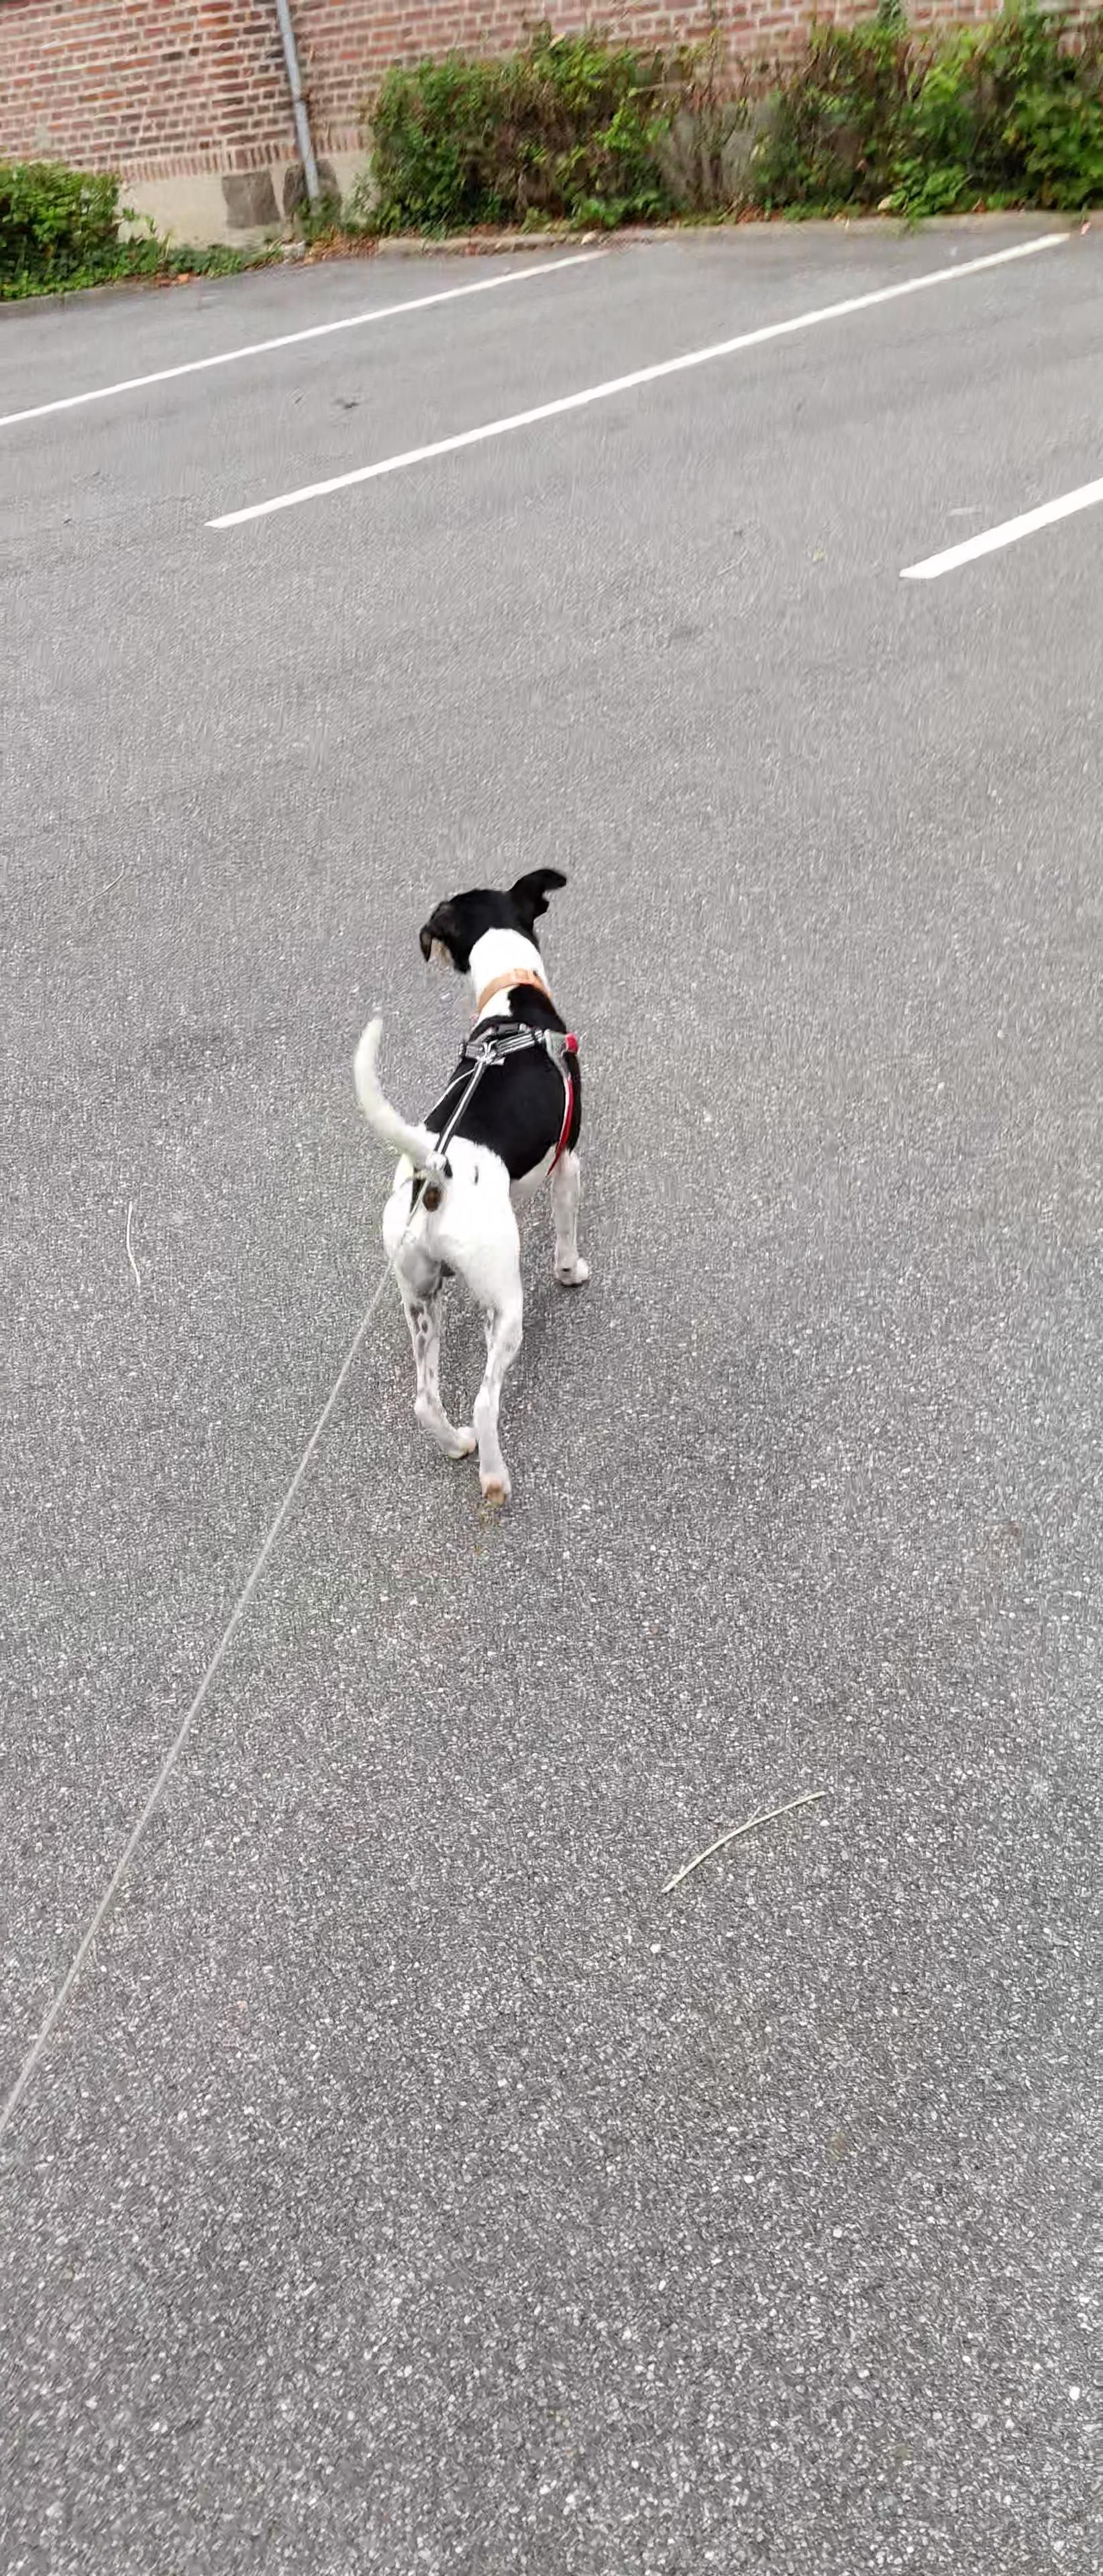Dog: (347, 864, 603, 1518)
